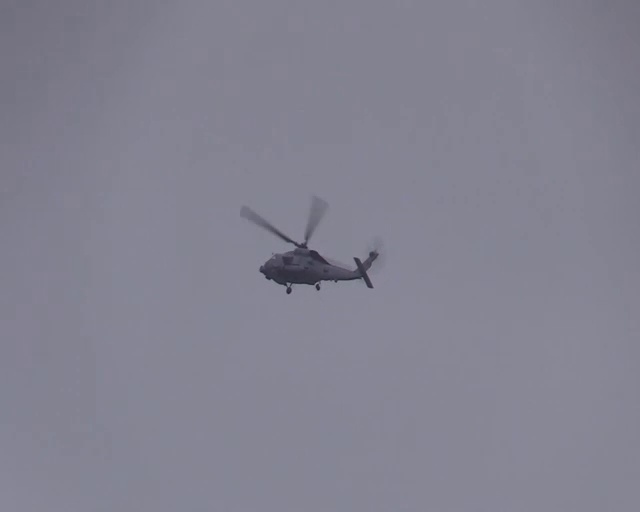HELICOPTER: (238, 192, 381, 294)
